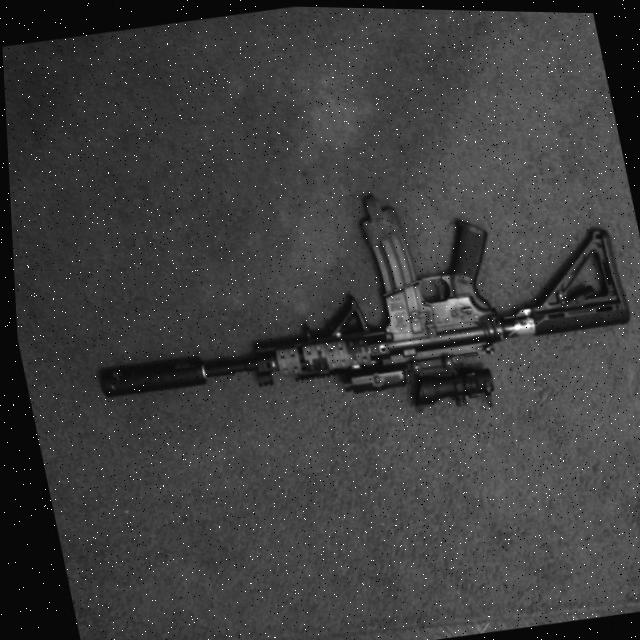firearm: (56, 147, 640, 470)
